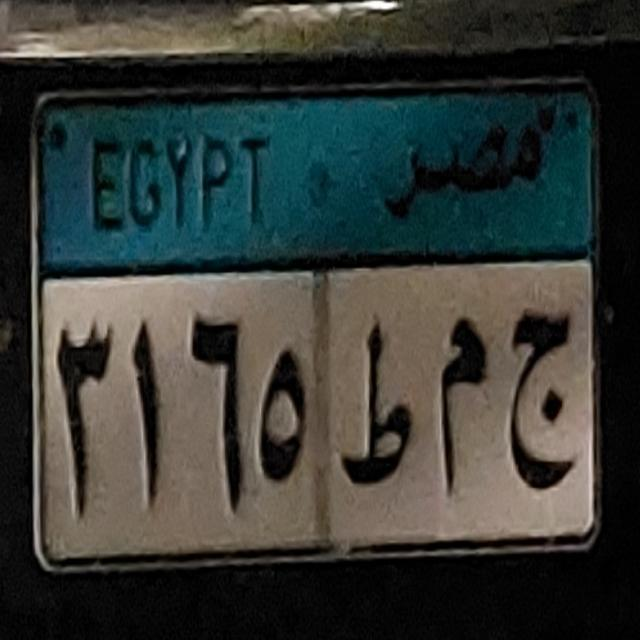1: (112, 310, 191, 524)
3: (36, 296, 124, 540)
5: (249, 337, 320, 497)
6: (176, 304, 262, 522)
Meem: (426, 314, 496, 504)
Taa: (326, 312, 431, 504)
geem: (495, 298, 585, 506)
